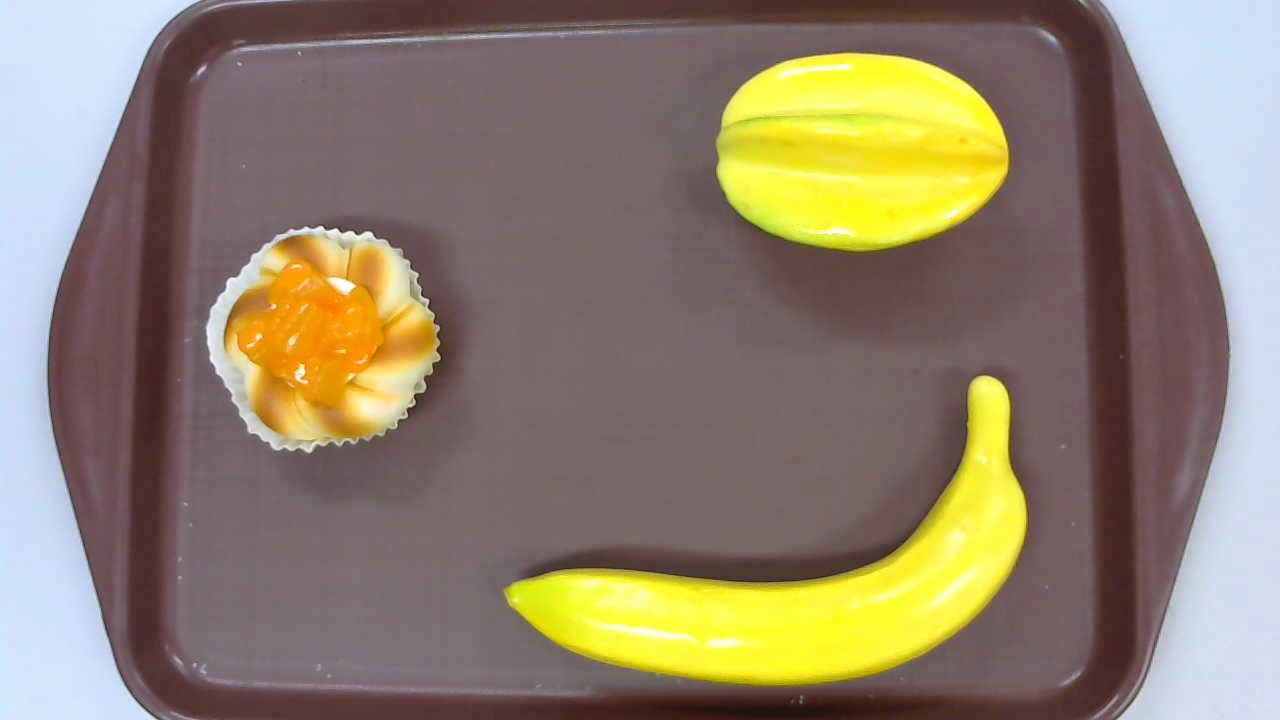banana: (502, 372, 1028, 688)
mango tart: (207, 225, 442, 455)
star fruit: (715, 53, 1011, 253)
